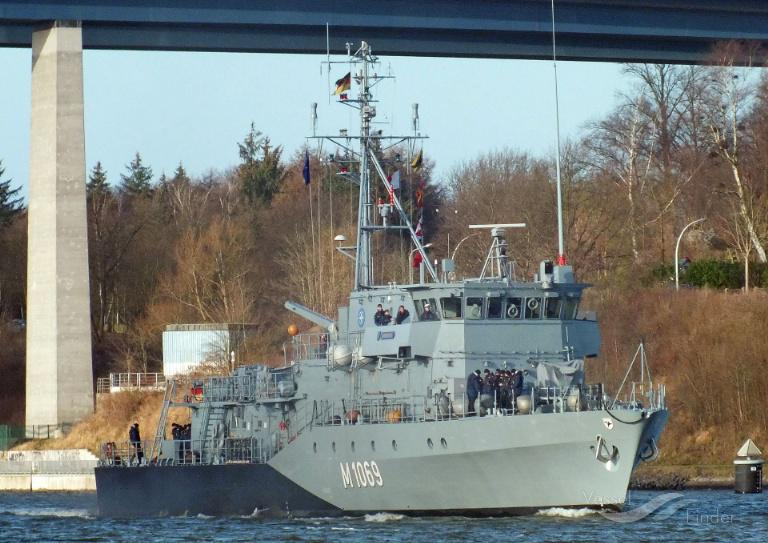OCR: (332, 457, 388, 494)
